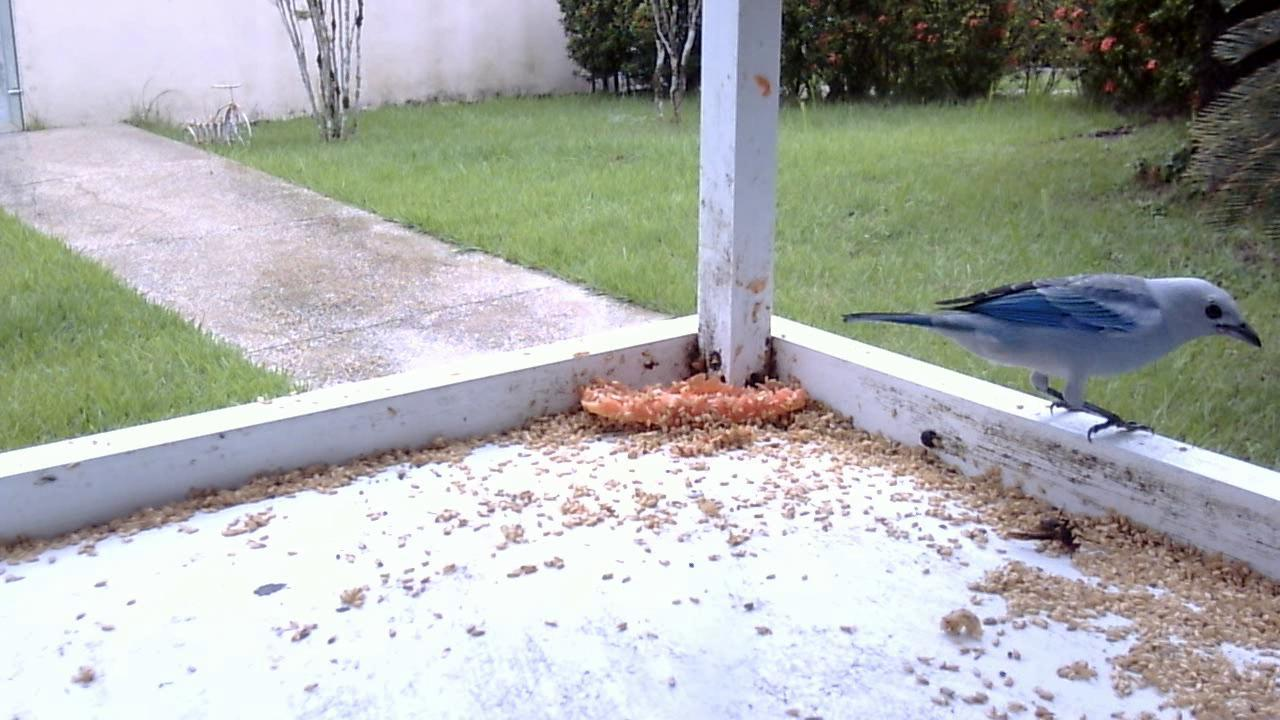sanhaco_da_amazonia: (840, 264, 1265, 449)
